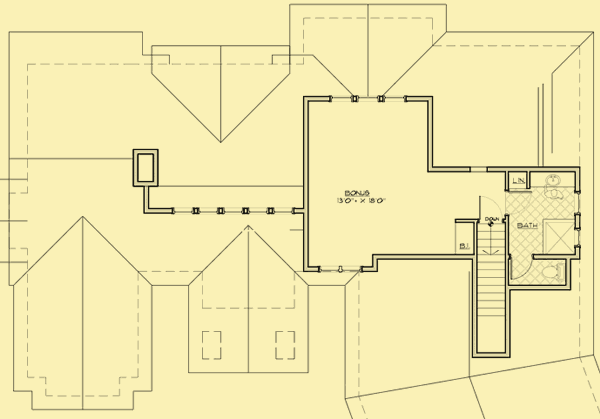door: (476, 194, 504, 222), (508, 254, 533, 281)
large_sink: (541, 261, 565, 282)
small_sink: (529, 171, 578, 190)
stairs: (476, 222, 512, 358)
window: (167, 205, 297, 218), (327, 95, 410, 103), (320, 264, 362, 275)
